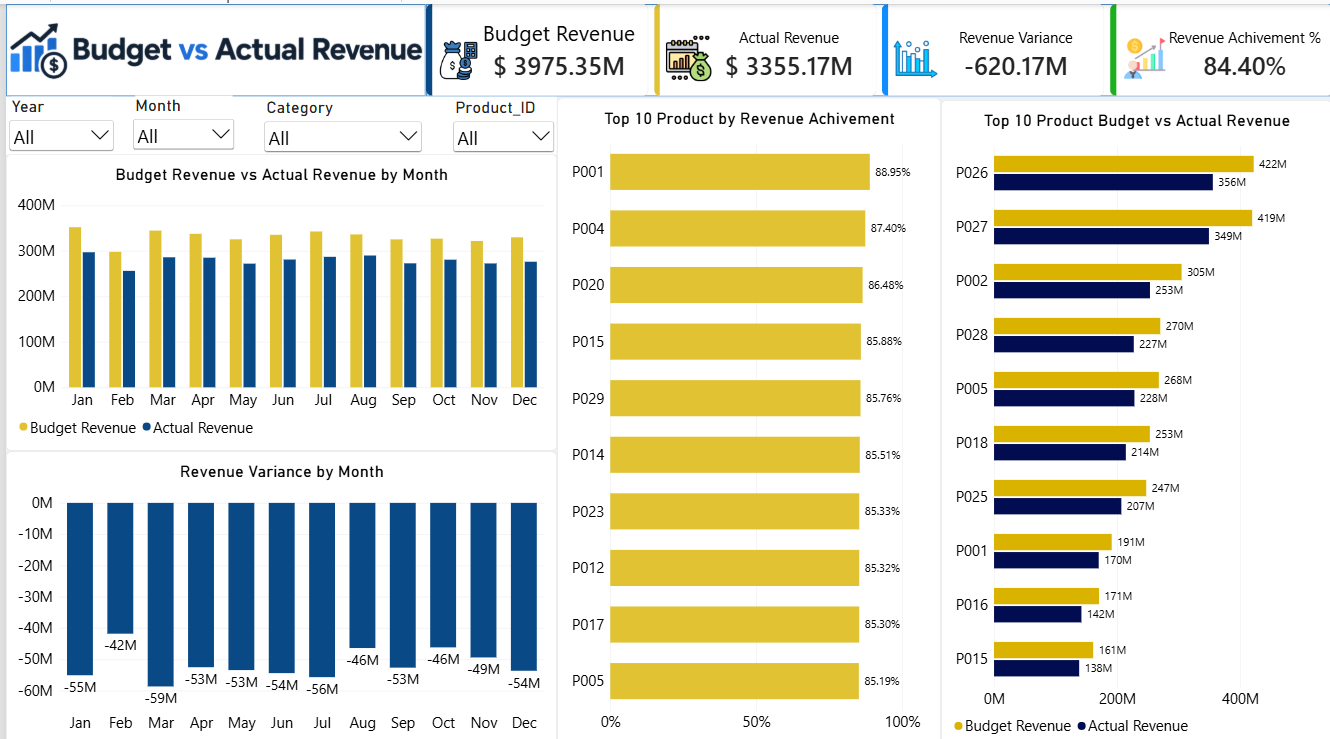

What the dashboard file says about the page in this screenshot:
{"tool":"powerbi","page":{"name":"Budget vs Actual","canvas":[1920,1080],"ordinal":3},"visuals":[{"type":"shape","box":[0,129.4,797.2,87.7],"z":0},{"type":"shape","box":[607.3,0,1312.7,133.6],"z":1000},{"type":"cardVisual","fields":{"Data":["Budget.Budget Revenue","Budget.Actual Revenue","Budget.Revenue Variance","Budget.Revenue Achivement %"]},"box":[607.3,0,1312.7,133.6],"z":2000},{"type":"shape","box":[0,0,607.3,133.6],"z":3000},{"type":"slicer","fields":{"Values":["Calendar.Year"]},"box":[0,133.6,160.7,83.5],"z":4000},{"type":"slicer","fields":{"Values":["Calendar.Month"]},"box":[179.2,132.1,156.5,87.7],"z":5000},{"type":"slicer","fields":{"Values":["finance products.Product_ID"]},"box":[642.4,135.7,156.5,83.5],"z":6000},{"type":"slicer","fields":{"Values":["finance products.Category"]},"box":[369.4,135.7,237.9,83.5],"z":7000},{"type":"image","box":[0,0,607.3,133.6],"z":8000},{"type":"clusteredColumnChart","title":"Budget Revenue vs Actual Revenue by Month","fields":{"Y":["Budget.Budget Revenue","Budget.Actual Revenue"],"Category":["Calendar.Month"]},"box":[0,217,797.2,429.9],"z":9000},{"type":"columnChart","title":"Revenue Variance by Month","fields":{"Category":["Calendar.Month"],"Y":["Budget.Revenue Variance"]},"box":[0,647,797.2,429.9],"z":10000},{"type":"barChart","title":"Top 10 Product by Revenue Achivement","fields":{"Y":["Budget.Revenue Achivement %"],"Category":["finance products.Product_ID"]},"box":[798.1,135.7,555.6,941],"z":11000},{"type":"clusteredBarChart","title":"Top 10 Product Budget vs Actual Revenue","fields":{"Category":["finance products.Product_ID"],"Y":["Budget.Budget Revenue","Budget.Actual Revenue"]},"box":[1353.6,139.3,566.4,941],"z":12000}]}

Visuals, with their boxes in screenshot pixels (x1, y1, x2, y2), scaled from the page's 1920x1080 canvas onto the 1330x739 screenshot:
shape: rect(0, 89, 552, 149)
shape: rect(421, 0, 1329, 91)
cardVisual - Budget.Budget Revenue x Budget.Actual Revenue: rect(421, 0, 1329, 91)
shape: rect(0, 0, 421, 91)
slicer - Calendar.Year: rect(0, 91, 111, 149)
slicer - Calendar.Month: rect(124, 90, 233, 150)
slicer - finance products.Product_ID: rect(445, 93, 553, 150)
slicer - finance products.Category: rect(256, 93, 421, 150)
image: rect(0, 0, 421, 91)
"Budget Revenue vs Actual Revenue by Month" clusteredColumnChart: rect(0, 148, 552, 443)
"Revenue Variance by Month" columnChart: rect(0, 443, 552, 737)
"Top 10 Product by Revenue Achivement" barChart: rect(553, 93, 938, 737)
"Top 10 Product Budget vs Actual Revenue" clusteredBarChart: rect(938, 95, 1329, 738)
